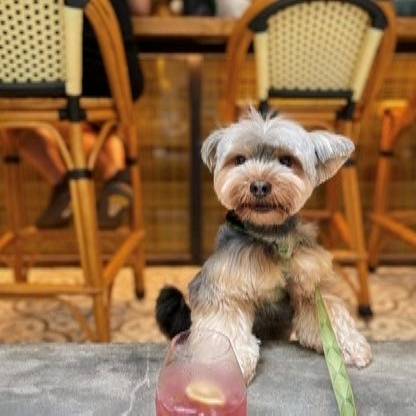yorkshire: (167, 112, 382, 381)
